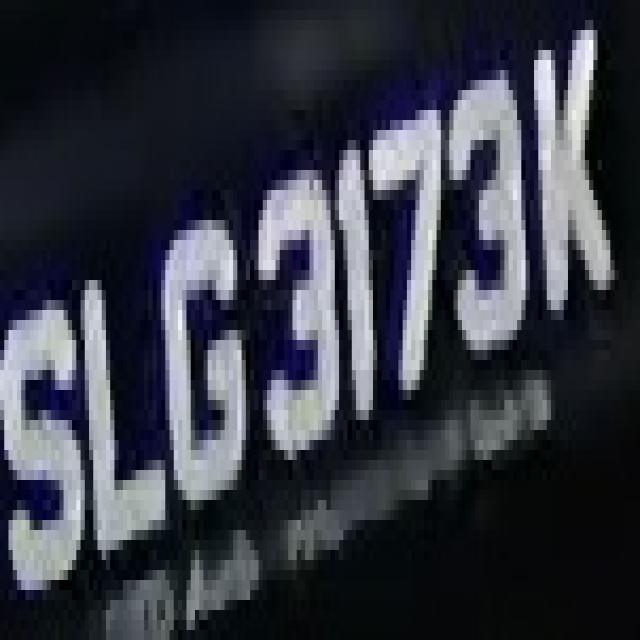1: (322, 90, 377, 460)
3: (441, 60, 534, 410), (250, 140, 335, 490)
7: (356, 110, 449, 430)
G: (144, 210, 246, 560)
K: (513, 0, 619, 350)
L: (68, 240, 174, 550)
S: (0, 4, 1, 10)
